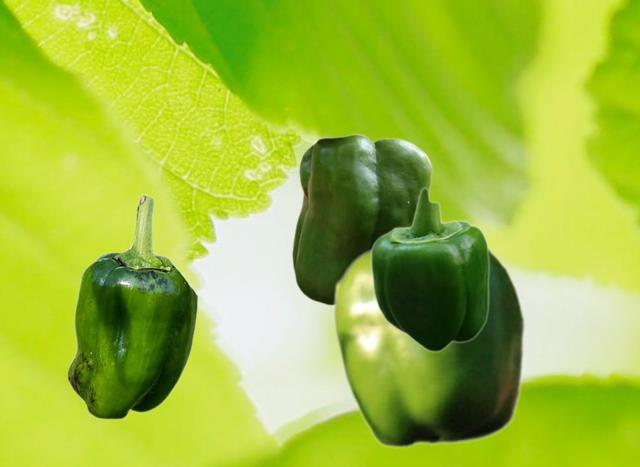bell_pepper: (332, 244, 525, 448), (66, 193, 197, 419), (291, 133, 432, 306), (369, 186, 489, 352)
